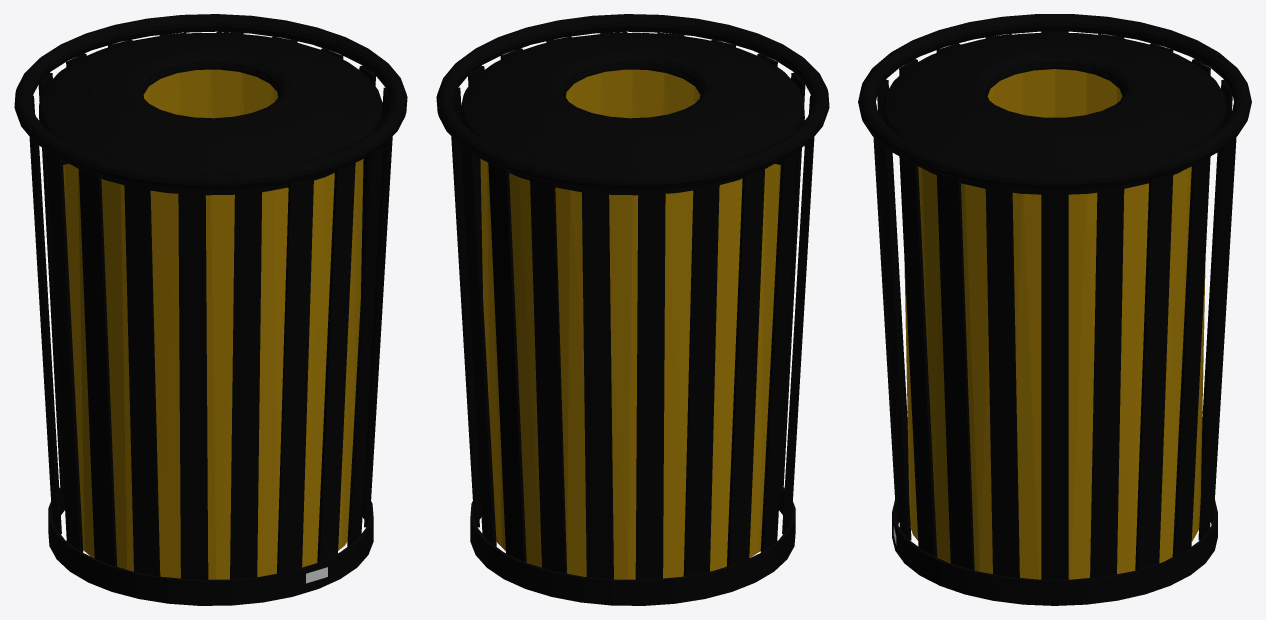
The picture shows the model from 3 angles, left to right: view 1: azimuth 30°, elevation 25°; view 2: azimuth 150°, elevation 25°; view 3: azimuth 270°, elevation 25°; orthographic projection.
Visible parts, largest first — view 1: mesh3.002_mesh3-geometry, mesh71.002_mesh71-geometry, mesh54.002_mesh54-geometry, mesh1.027_mesh1-geometry, mesh1.025_mesh1-geometry, mesh1.028_mesh1-geometry, mesh1.033_mesh1-geometry, mesh55.002_mesh55-geometry, mesh1.029_mesh1-geometry, mesh1.022_mesh1-geometry, mesh1.035_mesh1-geometry, mesh1.032_mesh1-geometry (+6 smaller); view 2: mesh3.002_mesh3-geometry, mesh71.002_mesh71-geometry, mesh54.002_mesh54-geometry, mesh1.039_mesh1-geometry, mesh1.030_mesh1-geometry, mesh1.037_mesh1-geometry, mesh1.024_mesh1-geometry, mesh55.002_mesh55-geometry, mesh1.041_mesh1-geometry, mesh1.042_mesh1-geometry, mesh1.035_mesh1-geometry, mesh1.038_mesh1-geometry (+6 smaller); view 3: mesh3.002_mesh3-geometry, mesh71.002_mesh71-geometry, mesh54.002_mesh54-geometry, mesh1.026_mesh1-geometry, mesh1.034_mesh1-geometry, mesh1.036_mesh1-geometry, mesh1.040_mesh1-geometry, mesh1.031_mesh1-geometry, mesh55.002_mesh55-geometry, mesh1.032_mesh1-geometry, mesh1.038_mesh1-geometry, mesh1.022_mesh1-geometry (+5 smaller).
Part boxes in pixels (x1=…): mesh3.002_mesh3-geometry: x1=63, y1=69, x2=363, y2=579; mesh71.002_mesh71-geometry: x1=39, y1=33, x2=382, y2=195; mesh54.002_mesh54-geometry: x1=14, y1=14, x2=407, y2=190; mesh1.027_mesh1-geometry: x1=178, y1=189, x2=208, y2=579; mesh1.025_mesh1-geometry: x1=230, y1=187, x2=262, y2=579; mesh1.028_mesh1-geometry: x1=124, y1=181, x2=160, y2=576; mesh1.033_mesh1-geometry: x1=277, y1=178, x2=313, y2=573; mesh55.002_mesh55-geometry: x1=48, y1=487, x2=373, y2=605; mesh1.029_mesh1-geometry: x1=79, y1=168, x2=117, y2=566; mesh1.022_mesh1-geometry: x1=317, y1=162, x2=355, y2=562; mesh1.035_mesh1-geometry: x1=46, y1=151, x2=83, y2=552; mesh1.032_mesh1-geometry: x1=347, y1=146, x2=382, y2=546; mesh3.002_mesh3-geometry: x1=480, y1=69, x2=780, y2=579; mesh71.002_mesh71-geometry: x1=461, y1=32, x2=804, y2=195; mesh54.002_mesh54-geometry: x1=436, y1=14, x2=829, y2=190; mesh1.039_mesh1-geometry: x1=635, y1=189, x2=665, y2=579; mesh1.030_mesh1-geometry: x1=581, y1=187, x2=613, y2=579; mesh1.037_mesh1-geometry: x1=683, y1=181, x2=719, y2=576; mesh1.024_mesh1-geometry: x1=530, y1=178, x2=566, y2=573; mesh55.002_mesh55-geometry: x1=470, y1=487, x2=795, y2=605; mesh1.041_mesh1-geometry: x1=726, y1=168, x2=764, y2=566; mesh1.042_mesh1-geometry: x1=488, y1=162, x2=526, y2=562; mesh1.035_mesh1-geometry: x1=760, y1=151, x2=797, y2=552; mesh1.038_mesh1-geometry: x1=461, y1=146, x2=496, y2=546; mesh3.002_mesh3-geometry: x1=904, y1=69, x2=1205, y2=579; mesh71.002_mesh71-geometry: x1=883, y1=32, x2=1227, y2=194; mesh54.002_mesh54-geometry: x1=858, y1=14, x2=1251, y2=189; mesh1.026_mesh1-geometry: x1=1041, y1=190, x2=1068, y2=579; mesh1.034_mesh1-geometry: x1=985, y1=184, x2=1019, y2=577; mesh1.036_mesh1-geometry: x1=1090, y1=184, x2=1124, y2=577; mesh1.040_mesh1-geometry: x1=1135, y1=173, x2=1173, y2=570; mesh1.031_mesh1-geometry: x1=936, y1=173, x2=974, y2=570; mesh55.002_mesh55-geometry: x1=892, y1=492, x2=1217, y2=605; mesh1.032_mesh1-geometry: x1=899, y1=156, x2=937, y2=556; mesh1.038_mesh1-geometry: x1=1172, y1=156, x2=1210, y2=556; mesh1.022_mesh1-geometry: x1=877, y1=141, x2=911, y2=540.
Bounding box in the file's own units: 0.5254 × 0.6674 × 0.5277.
